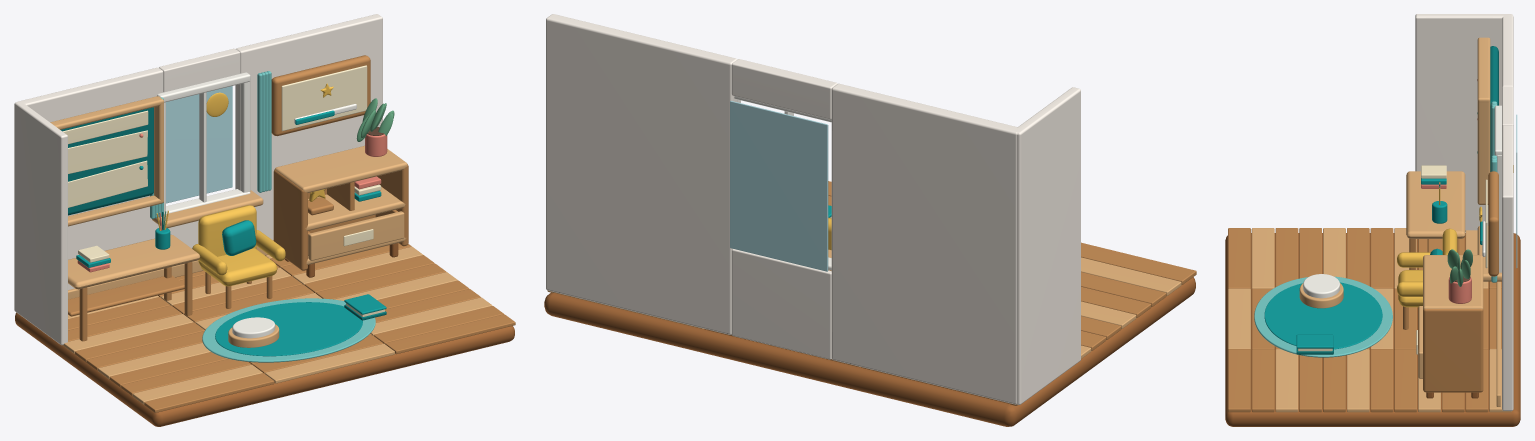
The model's file is room-spatial-study.glb.
3 views of the same model, side by side, from view 1: azimuth 30°, elevation 25°; view 2: azimuth 150°, elevation 25°; view 3: azimuth 270°, elevation 25° (orthographic). The views are drawn at different scales.
Visible parts, largest first — view 1: Side return, Back wall right, Room foundation, Back wall left, Sky outside, Rug inner, Goal paper, Cabinet shelf.002, Desk top, Cabinet side, Drawer front, Task board back (+60 smaller); view 2: Back wall left, Back wall right, Side return, Sky outside, Room foundation, Window below, Window above, Floor plank, Floor plank.003, Floor plank.006, Floor plank.009, Floor plank.012; view 3: Side return, Room foundation, Cabinet side.001, Rug inner, Back wall right, Desk top, Rug outer, Cabinet shelf.002, Floor plank.020, Floor plank.005, Floor plank.008, Floor plank.023 (+45 smaller).
Part boxes in pixels (left/top/right/bottom): Side return: left=14, top=101, right=67, bottom=345; Back wall right: left=235, top=14, right=382, bottom=240; Room foundation: left=15, top=312, right=514, bottom=426; Back wall left: left=17, top=67, right=163, bottom=289; Sky outside: left=166, top=86, right=232, bottom=203; Rug inner: left=215, top=302, right=362, bottom=356; Goal paper: left=281, top=65, right=367, bottom=131; Cabinet shelf.002: left=274, top=145, right=407, bottom=192; Desk top: left=68, top=234, right=200, bottom=289; Cabinet side: left=273, top=169, right=307, bottom=270; Drawer front: left=308, top=211, right=404, bottom=260; Task board back: left=61, top=107, right=153, bottom=215; Back wall left: left=831, top=83, right=1019, bottom=404; Back wall right: left=546, top=14, right=737, bottom=334; Side return: left=1016, top=87, right=1080, bottom=404; Sky outside: left=730, top=101, right=828, bottom=271; Room foundation: left=544, top=277, right=1195, bottom=426; Window below: left=731, top=249, right=831, bottom=359; Window above: left=731, top=59, right=837, bottom=119; Floor plank: left=1081, top=242, right=1196, bottom=284; Floor plank.003: left=1081, top=257, right=1181, bottom=295; Floor plank.006: left=1081, top=272, right=1166, bottom=306; Floor plank.009: left=1081, top=286, right=1151, bottom=317; Floor plank.012: left=1081, top=301, right=1136, bottom=328; Side return: left=1415, top=14, right=1512, bottom=231; Room foundation: left=1225, top=233, right=1520, bottom=426; Cabinet side.001: left=1423, top=309, right=1483, bottom=392; Rug inner: left=1264, top=282, right=1382, bottom=349; Back wall right: left=1502, top=125, right=1513, bottom=410; Desk top: left=1406, top=171, right=1465, bottom=238; Rug outer: left=1254, top=276, right=1392, bottom=357; Cabinet shelf.002: left=1423, top=255, right=1483, bottom=309; Floor plank.020: left=1370, top=349, right=1393, bottom=412; Floor plank.005: left=1251, top=349, right=1274, bottom=412; Floor plank.008: left=1275, top=349, right=1298, bottom=412; Floor plank.023: left=1394, top=349, right=1416, bottom=412.
Bounding box in the file's own units: 6.74 × 4.01 × 4.6.
